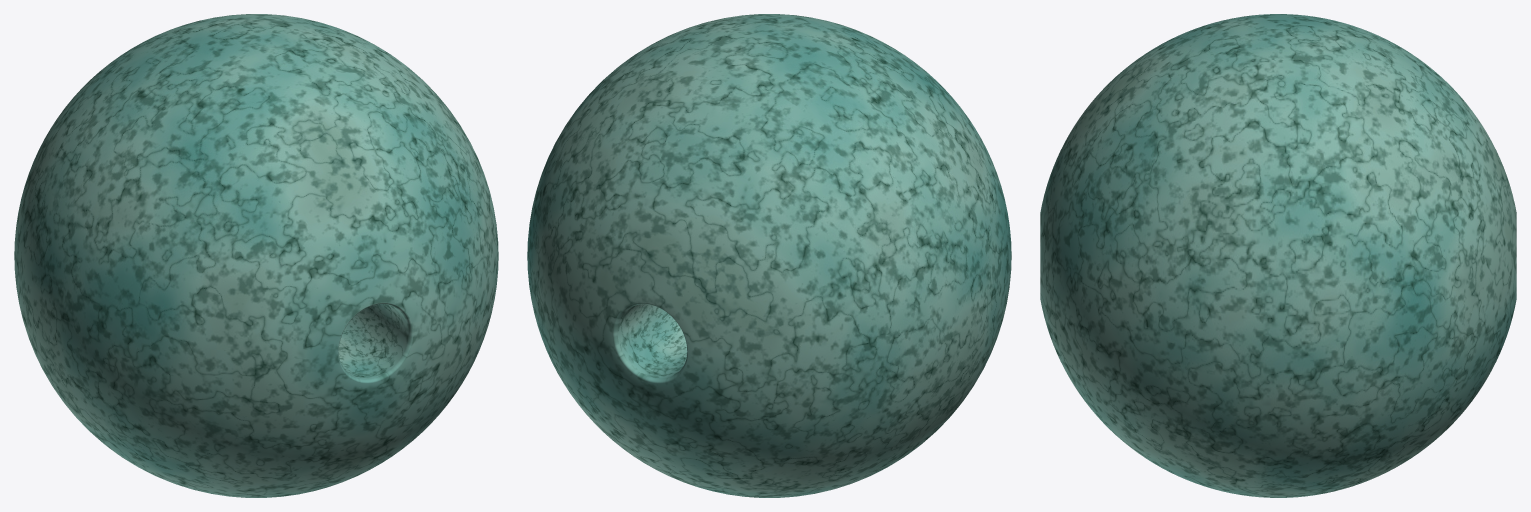
The model's file is moss-agate-6mm.glb.
3 renders of one model, left to right at view 1: azimuth 30°, elevation 25°; view 2: azimuth 150°, elevation 25°; view 3: azimuth 270°, elevation 25°, orthographic.
Parts seen in each view (by area): view 1: moss-agate.001; view 2: moss-agate.001; view 3: moss-agate.001.
Part boxes in pixels (<box>): moss-agate.001: <box>14,14,498,497</box>; moss-agate.001: <box>527,14,1011,497</box>; moss-agate.001: <box>1040,14,1516,497</box>.
Size of the model in its own units: 0.006 by 0.006 by 0.0059.
2 materials, 1 textured.
